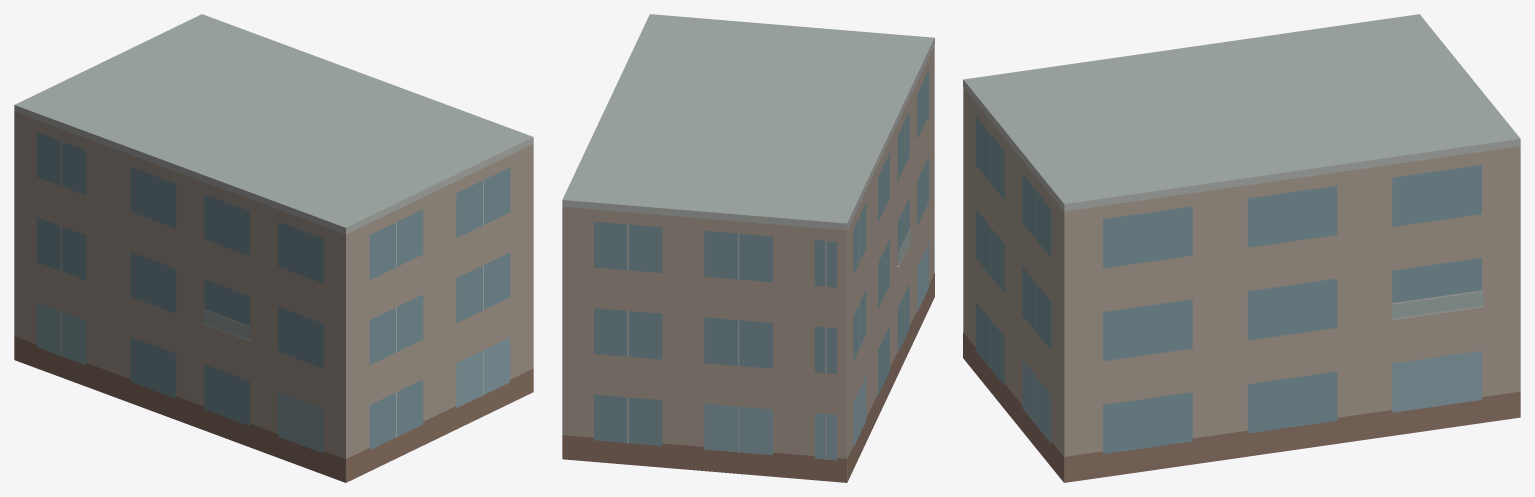
File: survey-upis-32906343.glb
3 renders of one model, left to right at view 1: azimuth 30°, elevation 25°; view 2: azimuth 150°, elevation 25°; view 3: azimuth 270°, elevation 25°, orthographic. The views are drawn at different scales.
Parts seen in each view (by area): view 1: survey-upis-32906343.tmp; view 2: survey-upis-32906343.tmp; view 3: survey-upis-32906343.tmp.
Part boxes in pixels (x1=…): survey-upis-32906343.tmp: x1=14, y1=14, x2=533, y2=482; survey-upis-32906343.tmp: x1=562, y1=14, x2=934, y2=482; survey-upis-32906343.tmp: x1=963, y1=14, x2=1520, y2=482.
Size of the model in its own units: 13.4 by 9.15 by 16.6.
